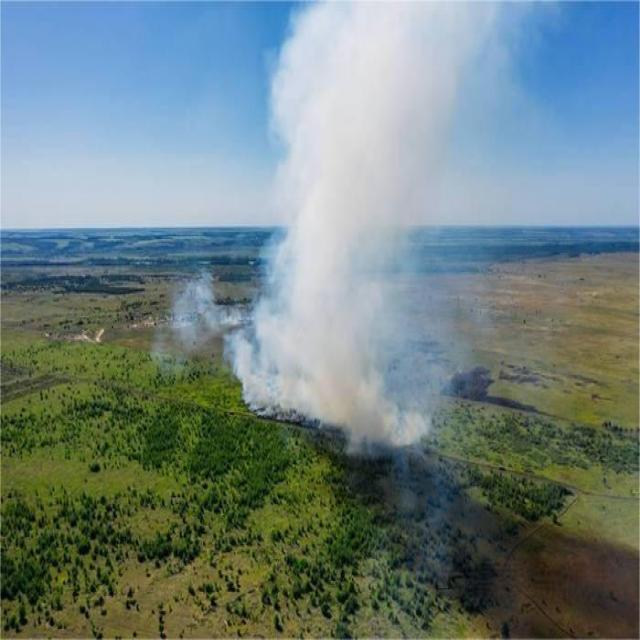Smoke: (178, 4, 478, 454)
